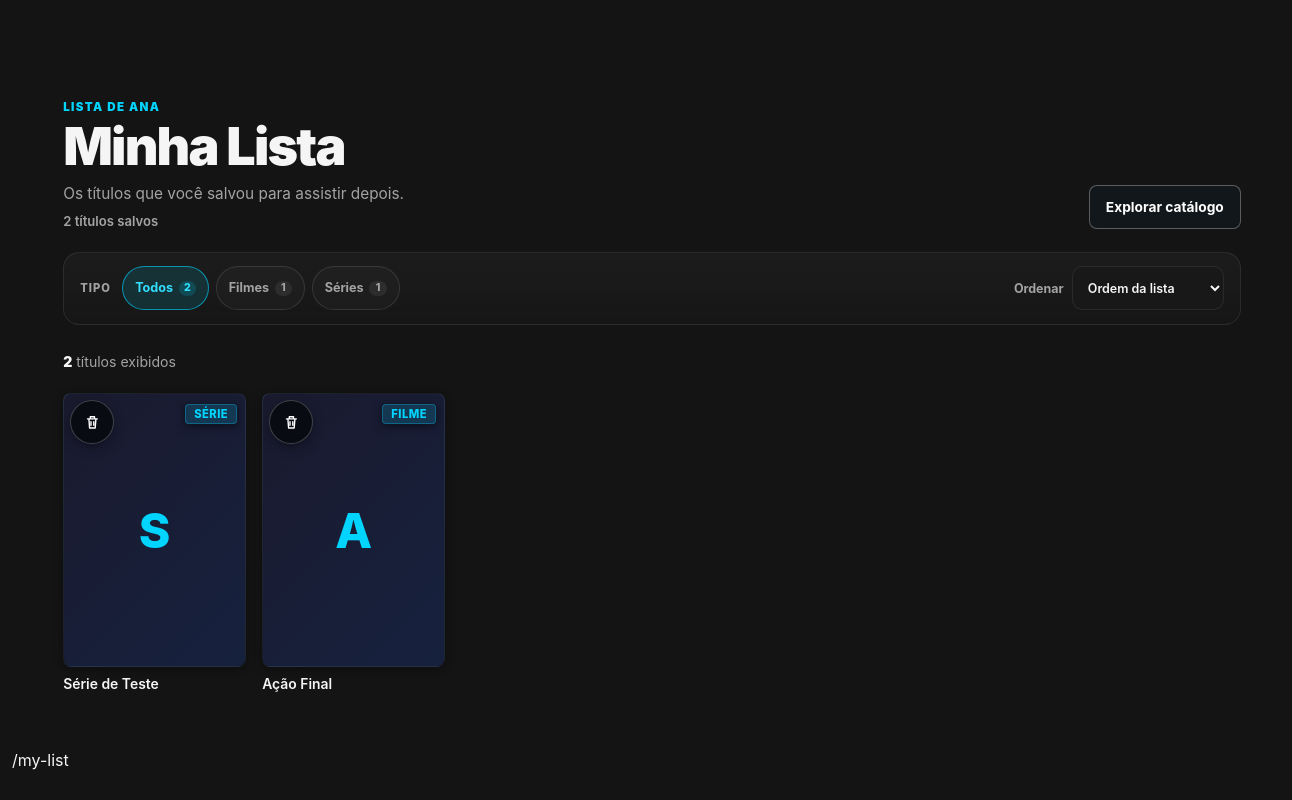
shows the saved titles and filters them by type without changing persistence
expect the heading "Minha Lista" is shown: met, box [63, 115, 345, 178]
expect the link "A Filme Ação Final" is shown: met, box [262, 393, 445, 694]
Click the button with aria-label "Filmes, 1 título" at (260, 288), box [216, 266, 305, 310]
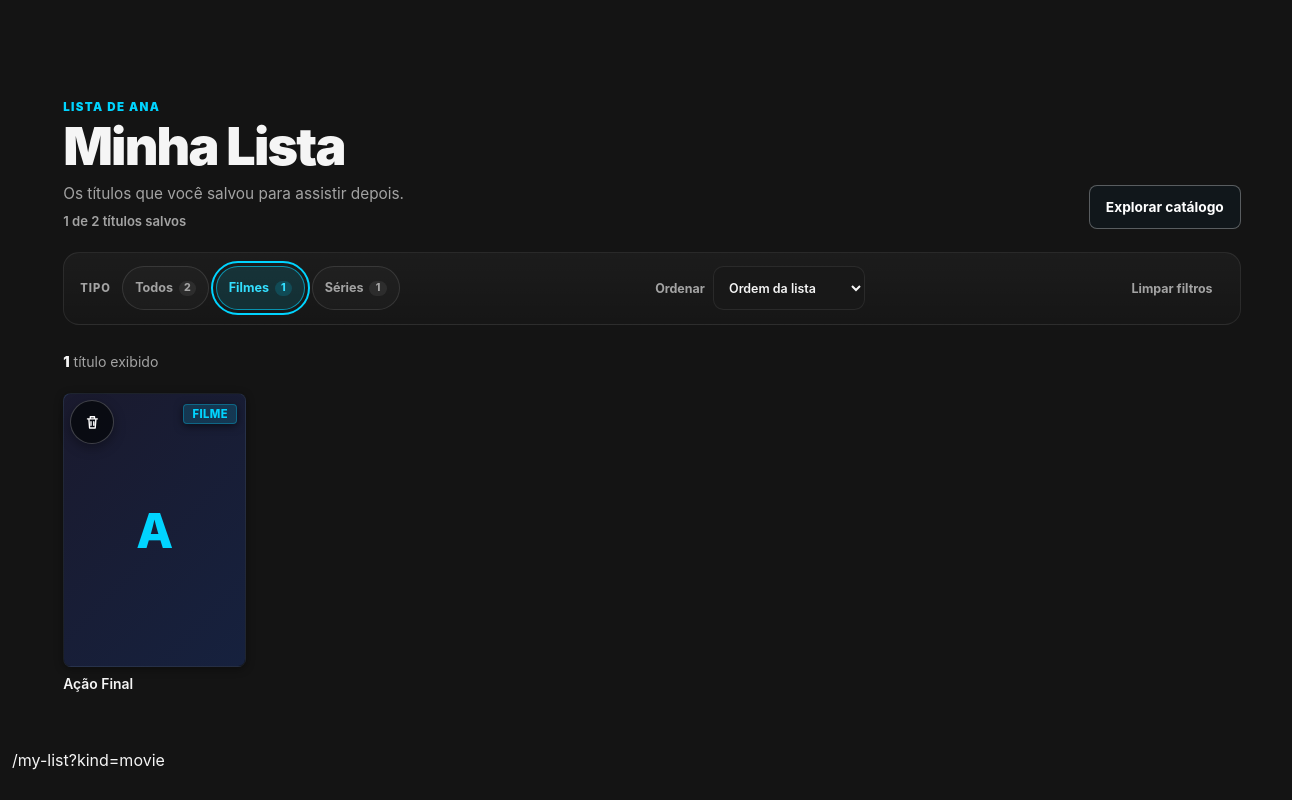
expect the link "Série de Teste" is gone: met
expect the text "1 de 2 títulos salvos" is shown: met, box [63, 214, 186, 230]
expect the text with test id "location" reads "/my-list?kind=movie": met, box [12, 750, 165, 770]
